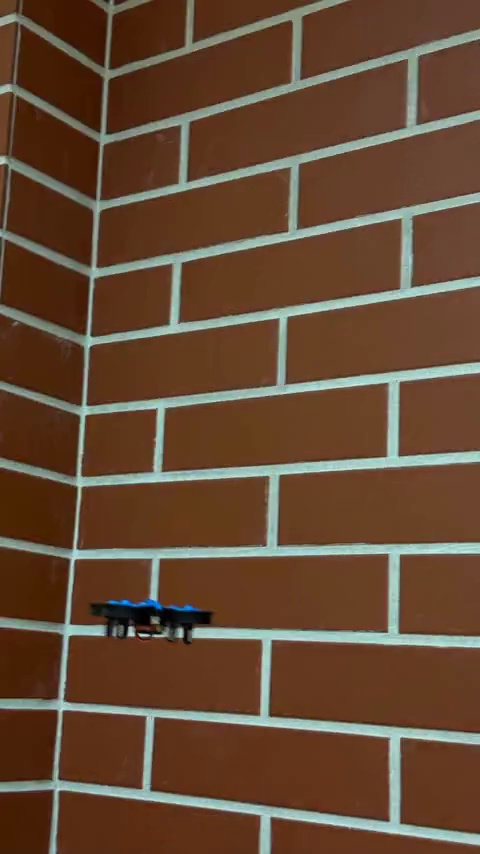drone: (91, 596, 214, 644)
